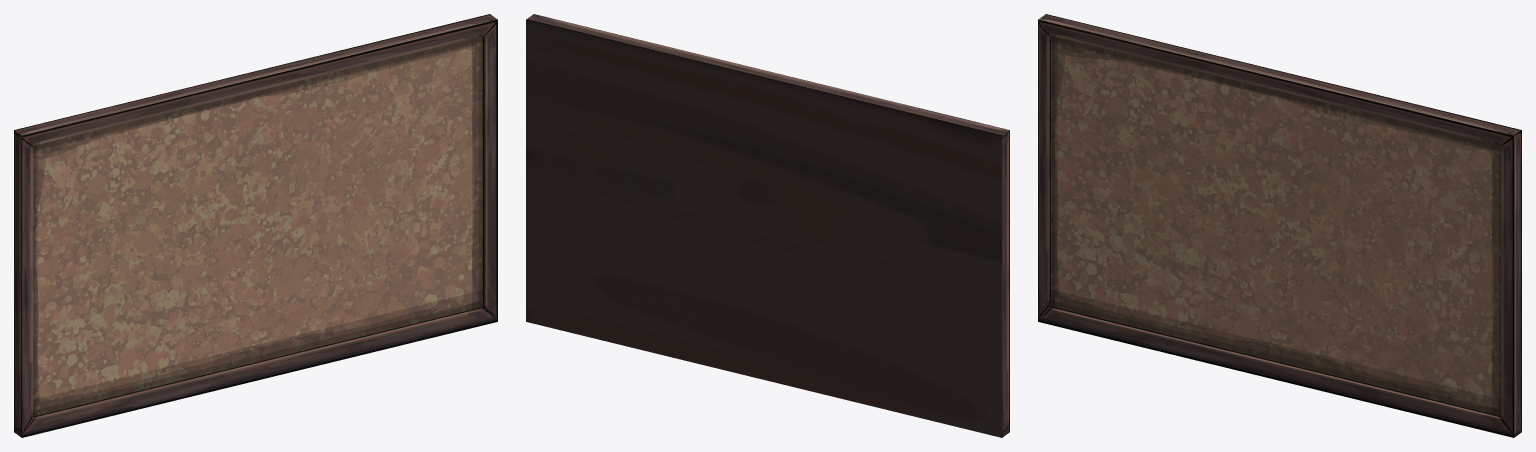
The model's file is corkboard.fbx.
3 views of the same model, side by side, from view 1: azimuth 30°, elevation 25°; view 2: azimuth 150°, elevation 25°; view 3: azimuth 330°, elevation 25° (orthographic).
Visible parts, largest first — view 1: corkboard; view 2: corkboard; view 3: corkboard.
Part boxes in pixels (box(x1,y1,x2,y2)): corkboard: box(14, 14, 497, 437); corkboard: box(526, 14, 1009, 437); corkboard: box(1038, 14, 1521, 437).
Bounding box in the file's own units: 700 × 425 × 20.
